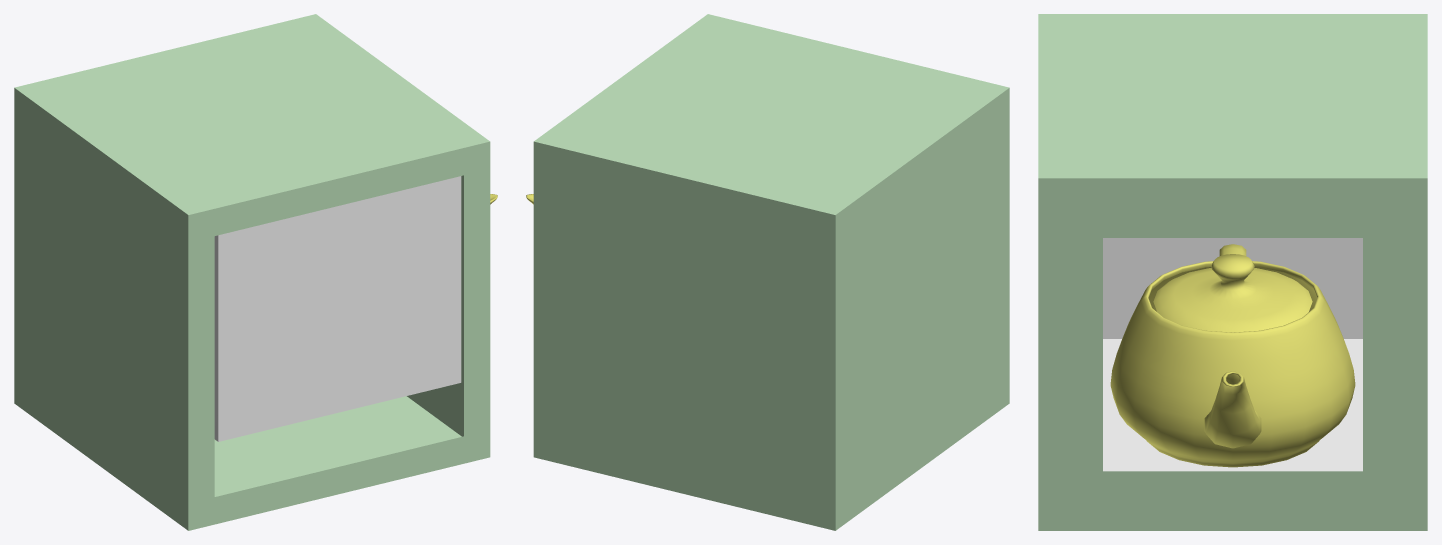
File: noneuclidean.gltf
3 views of the same model, side by side, from view 1: azimuth 30°, elevation 25°; view 2: azimuth 150°, elevation 25°; view 3: azimuth 270°, elevation 25° (orthographic). The views are drawn at different scales.
Visible parts, largest first — view 1: Cube.001; view 2: Cube.001; view 3: Cube.001, Teapot.
Boxes of the visible parts, left/top/right/bottom form: Cube.001: left=14, top=14, right=490, bottom=530; Cube.001: left=533, top=14, right=1009, bottom=530; Cube.001: left=1038, top=14, right=1427, bottom=530; Teapot: left=1110, top=244, right=1355, bottom=467.
Bounding box in the file's own units: 2.63 × 2 × 2.
